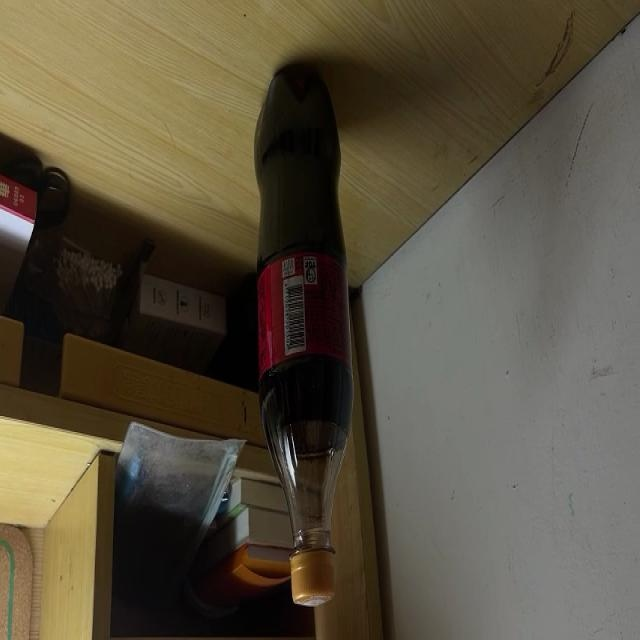Coca-Cola: (253, 61, 352, 606)
